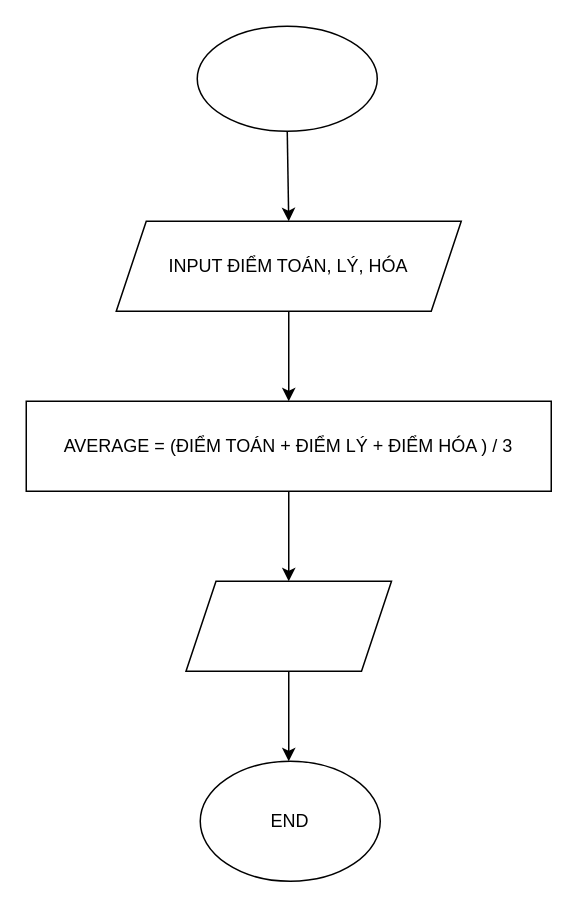
Some shapes in this 578 by 908 pixel diagram are drawn without their labels. Here are the shapes that lost their labels. From the top down, the box of each, then its label:
(196, 25, 377, 131): BEGIN
(184, 580, 392, 671): DISPLAY AVERAGE
